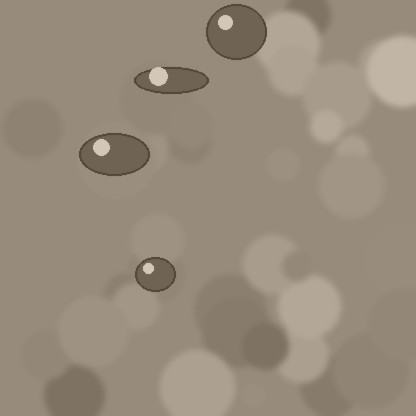gota: (206, 6, 266, 64), (79, 135, 149, 179), (134, 68, 208, 96), (135, 258, 175, 294)
